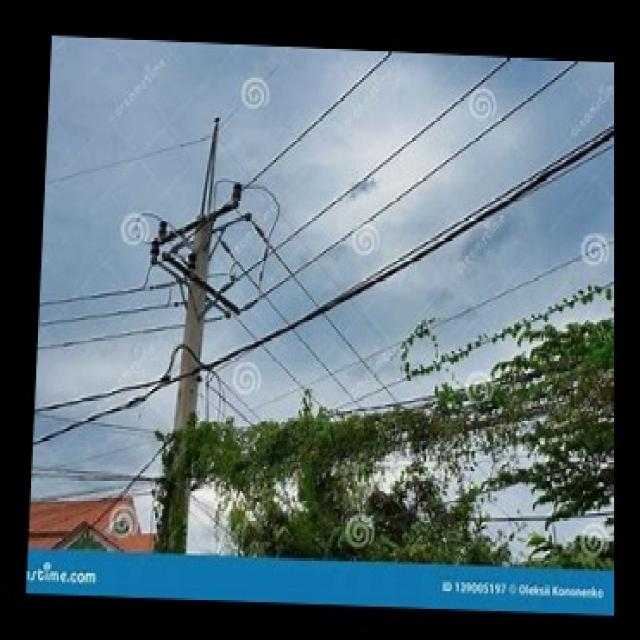critical vegetation: (172, 358, 608, 533)
